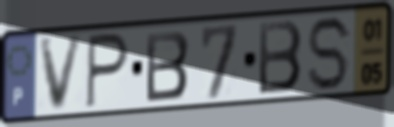7: (198, 21, 240, 102)
B: (256, 18, 305, 98), (144, 28, 192, 105)
P: (83, 31, 132, 112)
S: (305, 13, 355, 94)
V: (37, 32, 87, 115)
